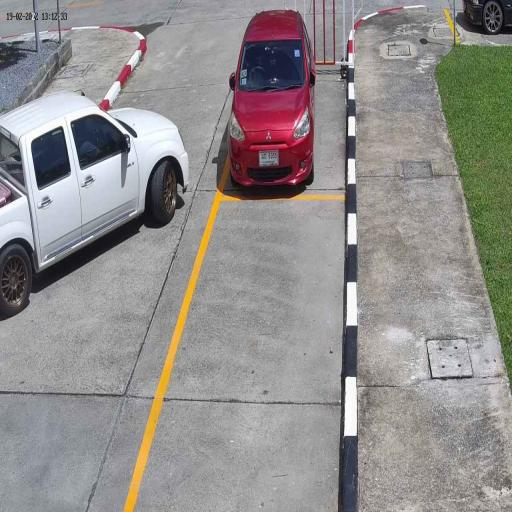car: (0, 92, 191, 315), (228, 8, 318, 196)
